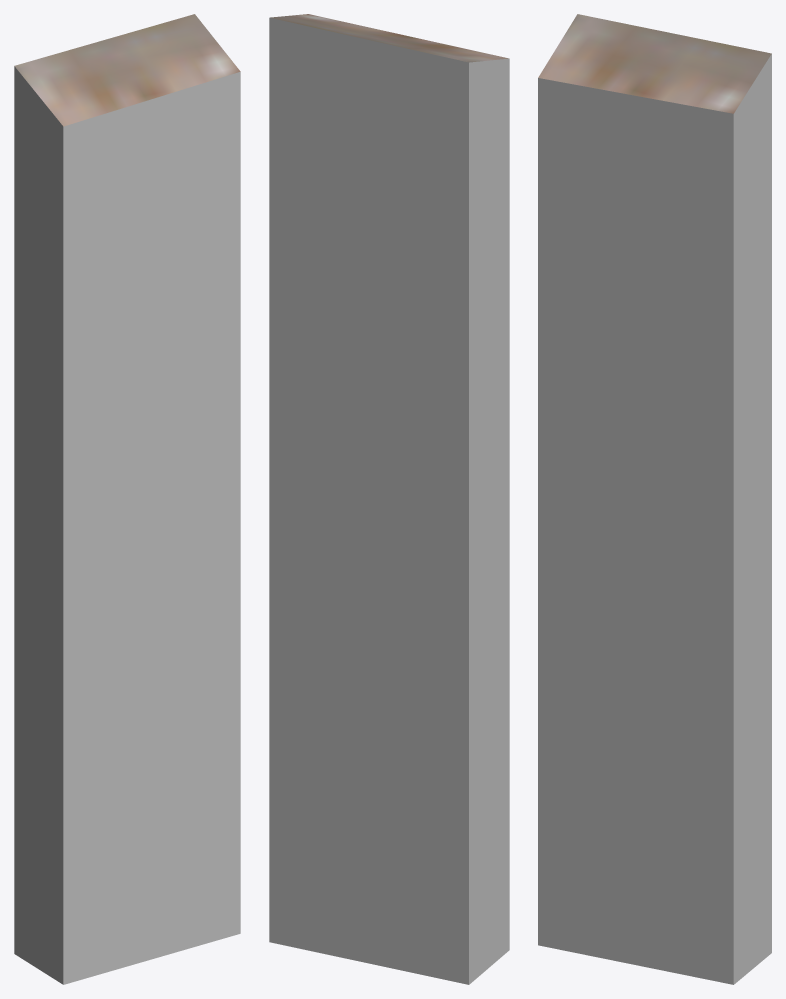
File: DEBW_0010007THX1.gltf
3 views of the same model, side by side, from view 1: azimuth 30°, elevation 25°; view 2: azimuth 150°, elevation 25°; view 3: azimuth 330°, elevation 25° (orthographic). The views are drawn at different scales.
Visible parts, largest first — view 1: Z_UP; view 2: Z_UP; view 3: Z_UP.
Boxes of the visible parts, left/top/right/bottom form: Z_UP: left=14, top=14, right=240, bottom=984; Z_UP: left=269, top=14, right=509, bottom=984; Z_UP: left=538, top=14, right=771, bottom=984.
Bounding box in the file's own units: 3.74 × 16.69 × 1.7.
2 materials, 1 textured.
